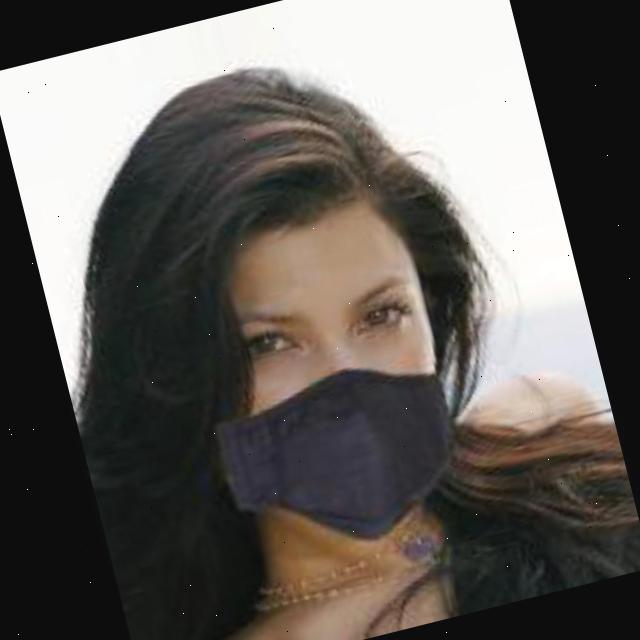suspicion: (88, 73, 532, 595)
